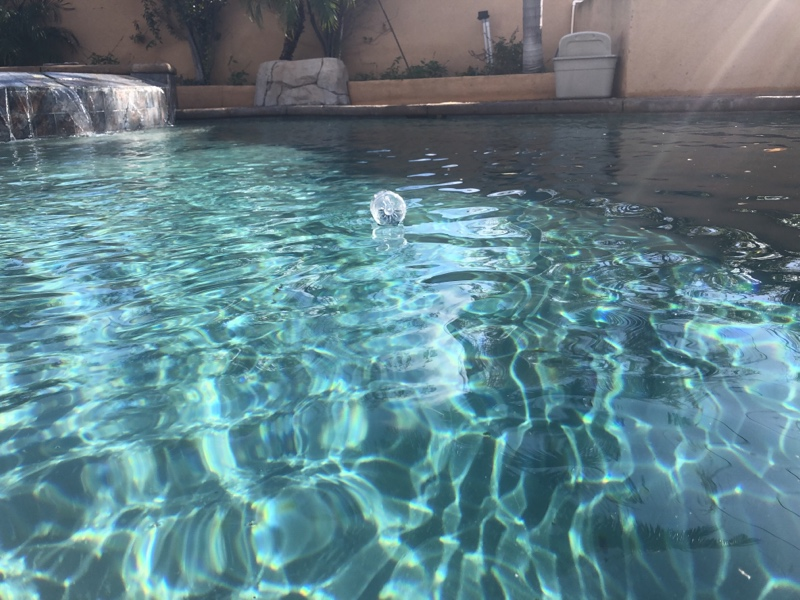Plastic Bottle: (367, 187, 410, 231)
